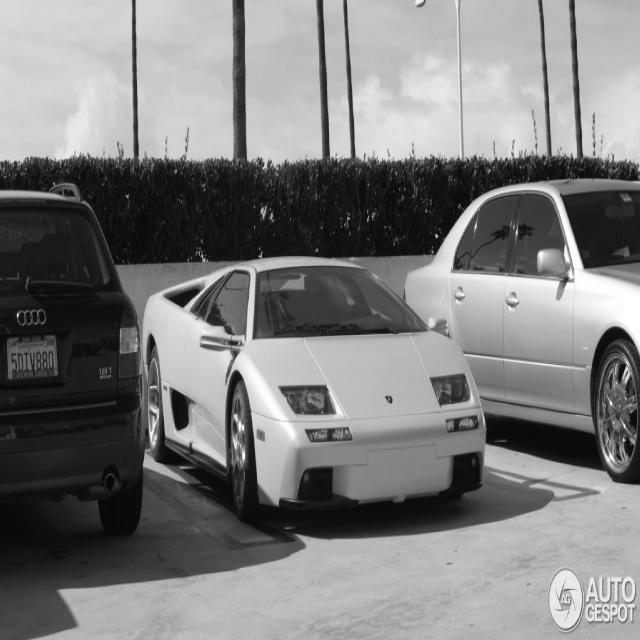Sedan: (140, 256, 484, 521)
